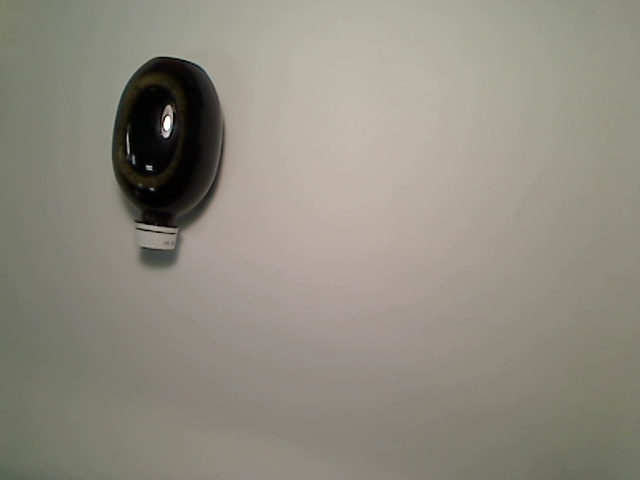plast_bottle: (109, 53, 230, 255)
